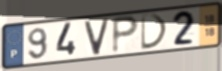2: (171, 9, 197, 49)
4: (55, 20, 80, 60)
9: (26, 26, 51, 61)
D: (140, 12, 170, 52)
P: (110, 15, 141, 56)
V: (83, 17, 111, 57)
